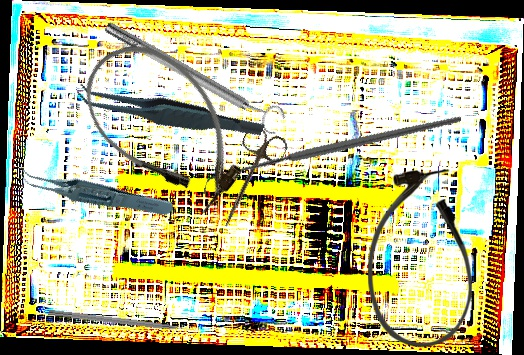Cannula: (61, 20, 268, 232), (368, 169, 472, 348)
Fixation Ring: (99, 11, 289, 139)
Hook Surgical: (202, 49, 463, 260), (48, 308, 201, 336)
Iris Scissors: (207, 123, 291, 237)
Tissue Forceps: (73, 48, 266, 175), (14, 135, 176, 246)
